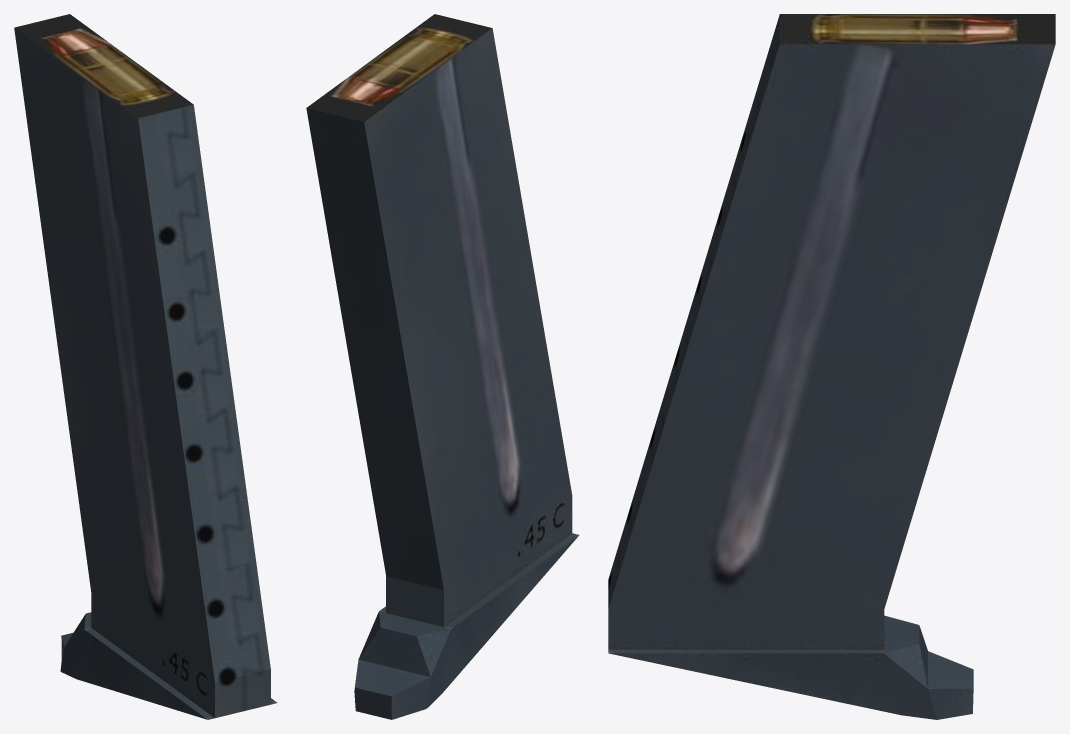
Rendered from i_mag_pistol.glb.
3 renders of one model, left to right at view 1: azimuth 30°, elevation 25°; view 2: azimuth 150°, elevation 25°; view 3: azimuth 270°, elevation 25°, orthographic. The views are drawn at different scales.
Visible parts, largest first — view 1: i_mag_pistol; view 2: i_mag_pistol; view 3: i_mag_pistol.
Boxes of the visible parts, <box> form: i_mag_pistol: <box>14,14,277,719</box>; i_mag_pistol: <box>306,14,579,719</box>; i_mag_pistol: <box>608,14,1055,719</box>.
Bounding box in the file's own units: 0.0121 × 0.1005 × 0.0603.
1 material, 1 textured.
